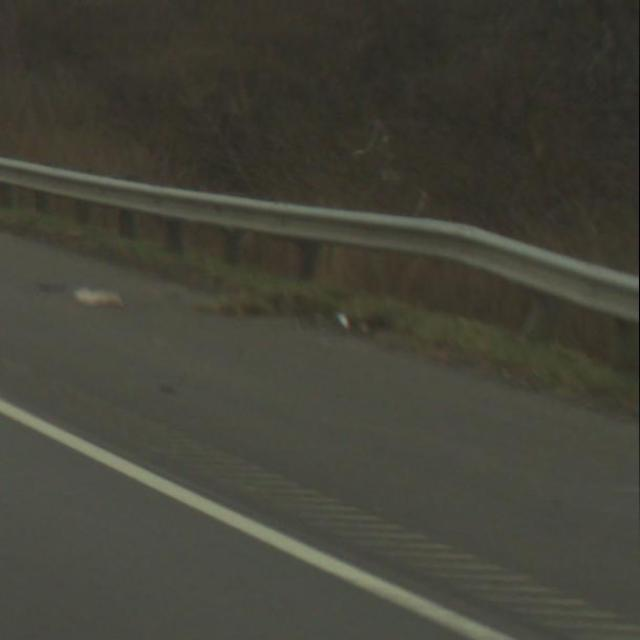Guard rail: (0, 149, 640, 376)
